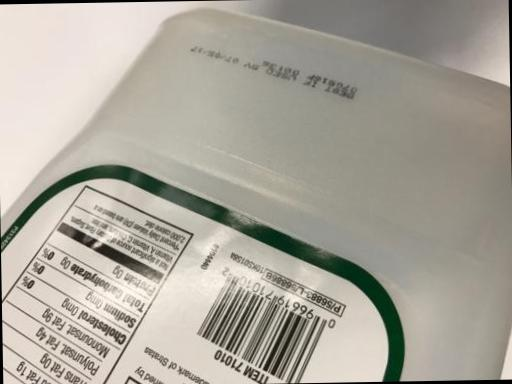Plastik: (0, 2, 512, 384)
